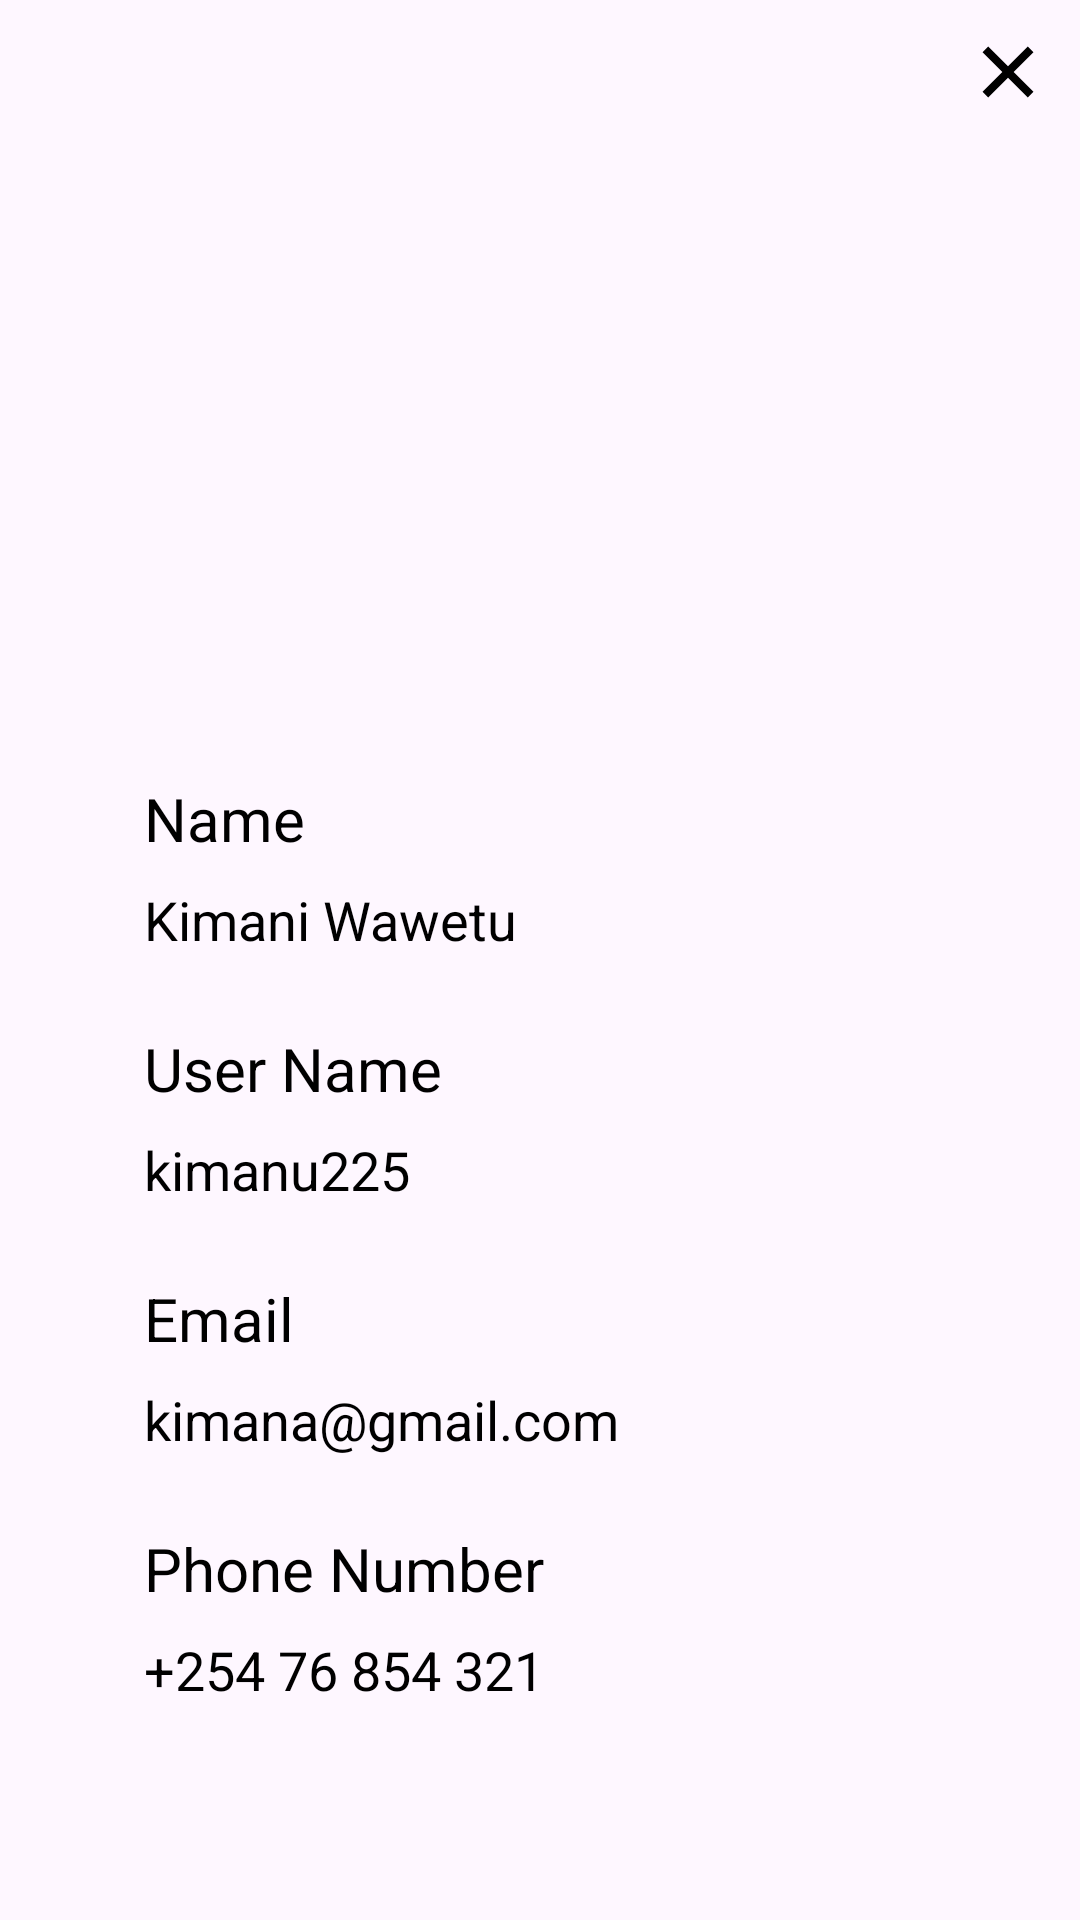

Icons on this 1080×1920 Android screen, each with the point to tap as (x,y):
multiplication: (1008,72)
